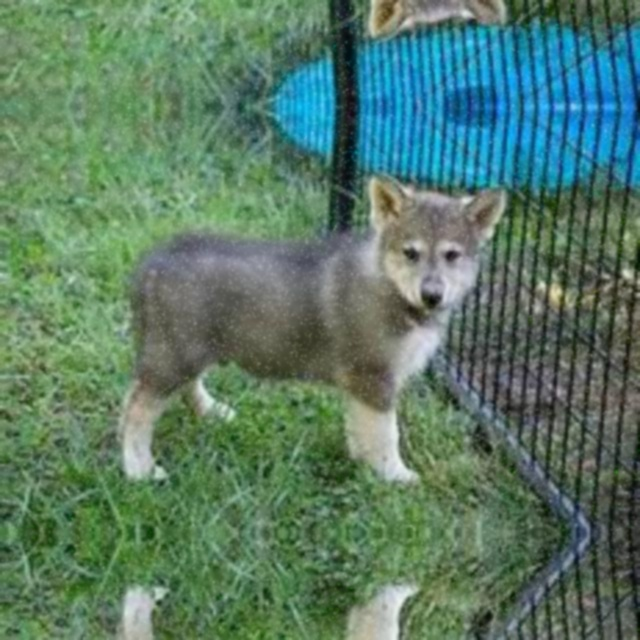dog: (115, 165, 505, 513), (116, 552, 505, 640), (116, 0, 505, 47)
